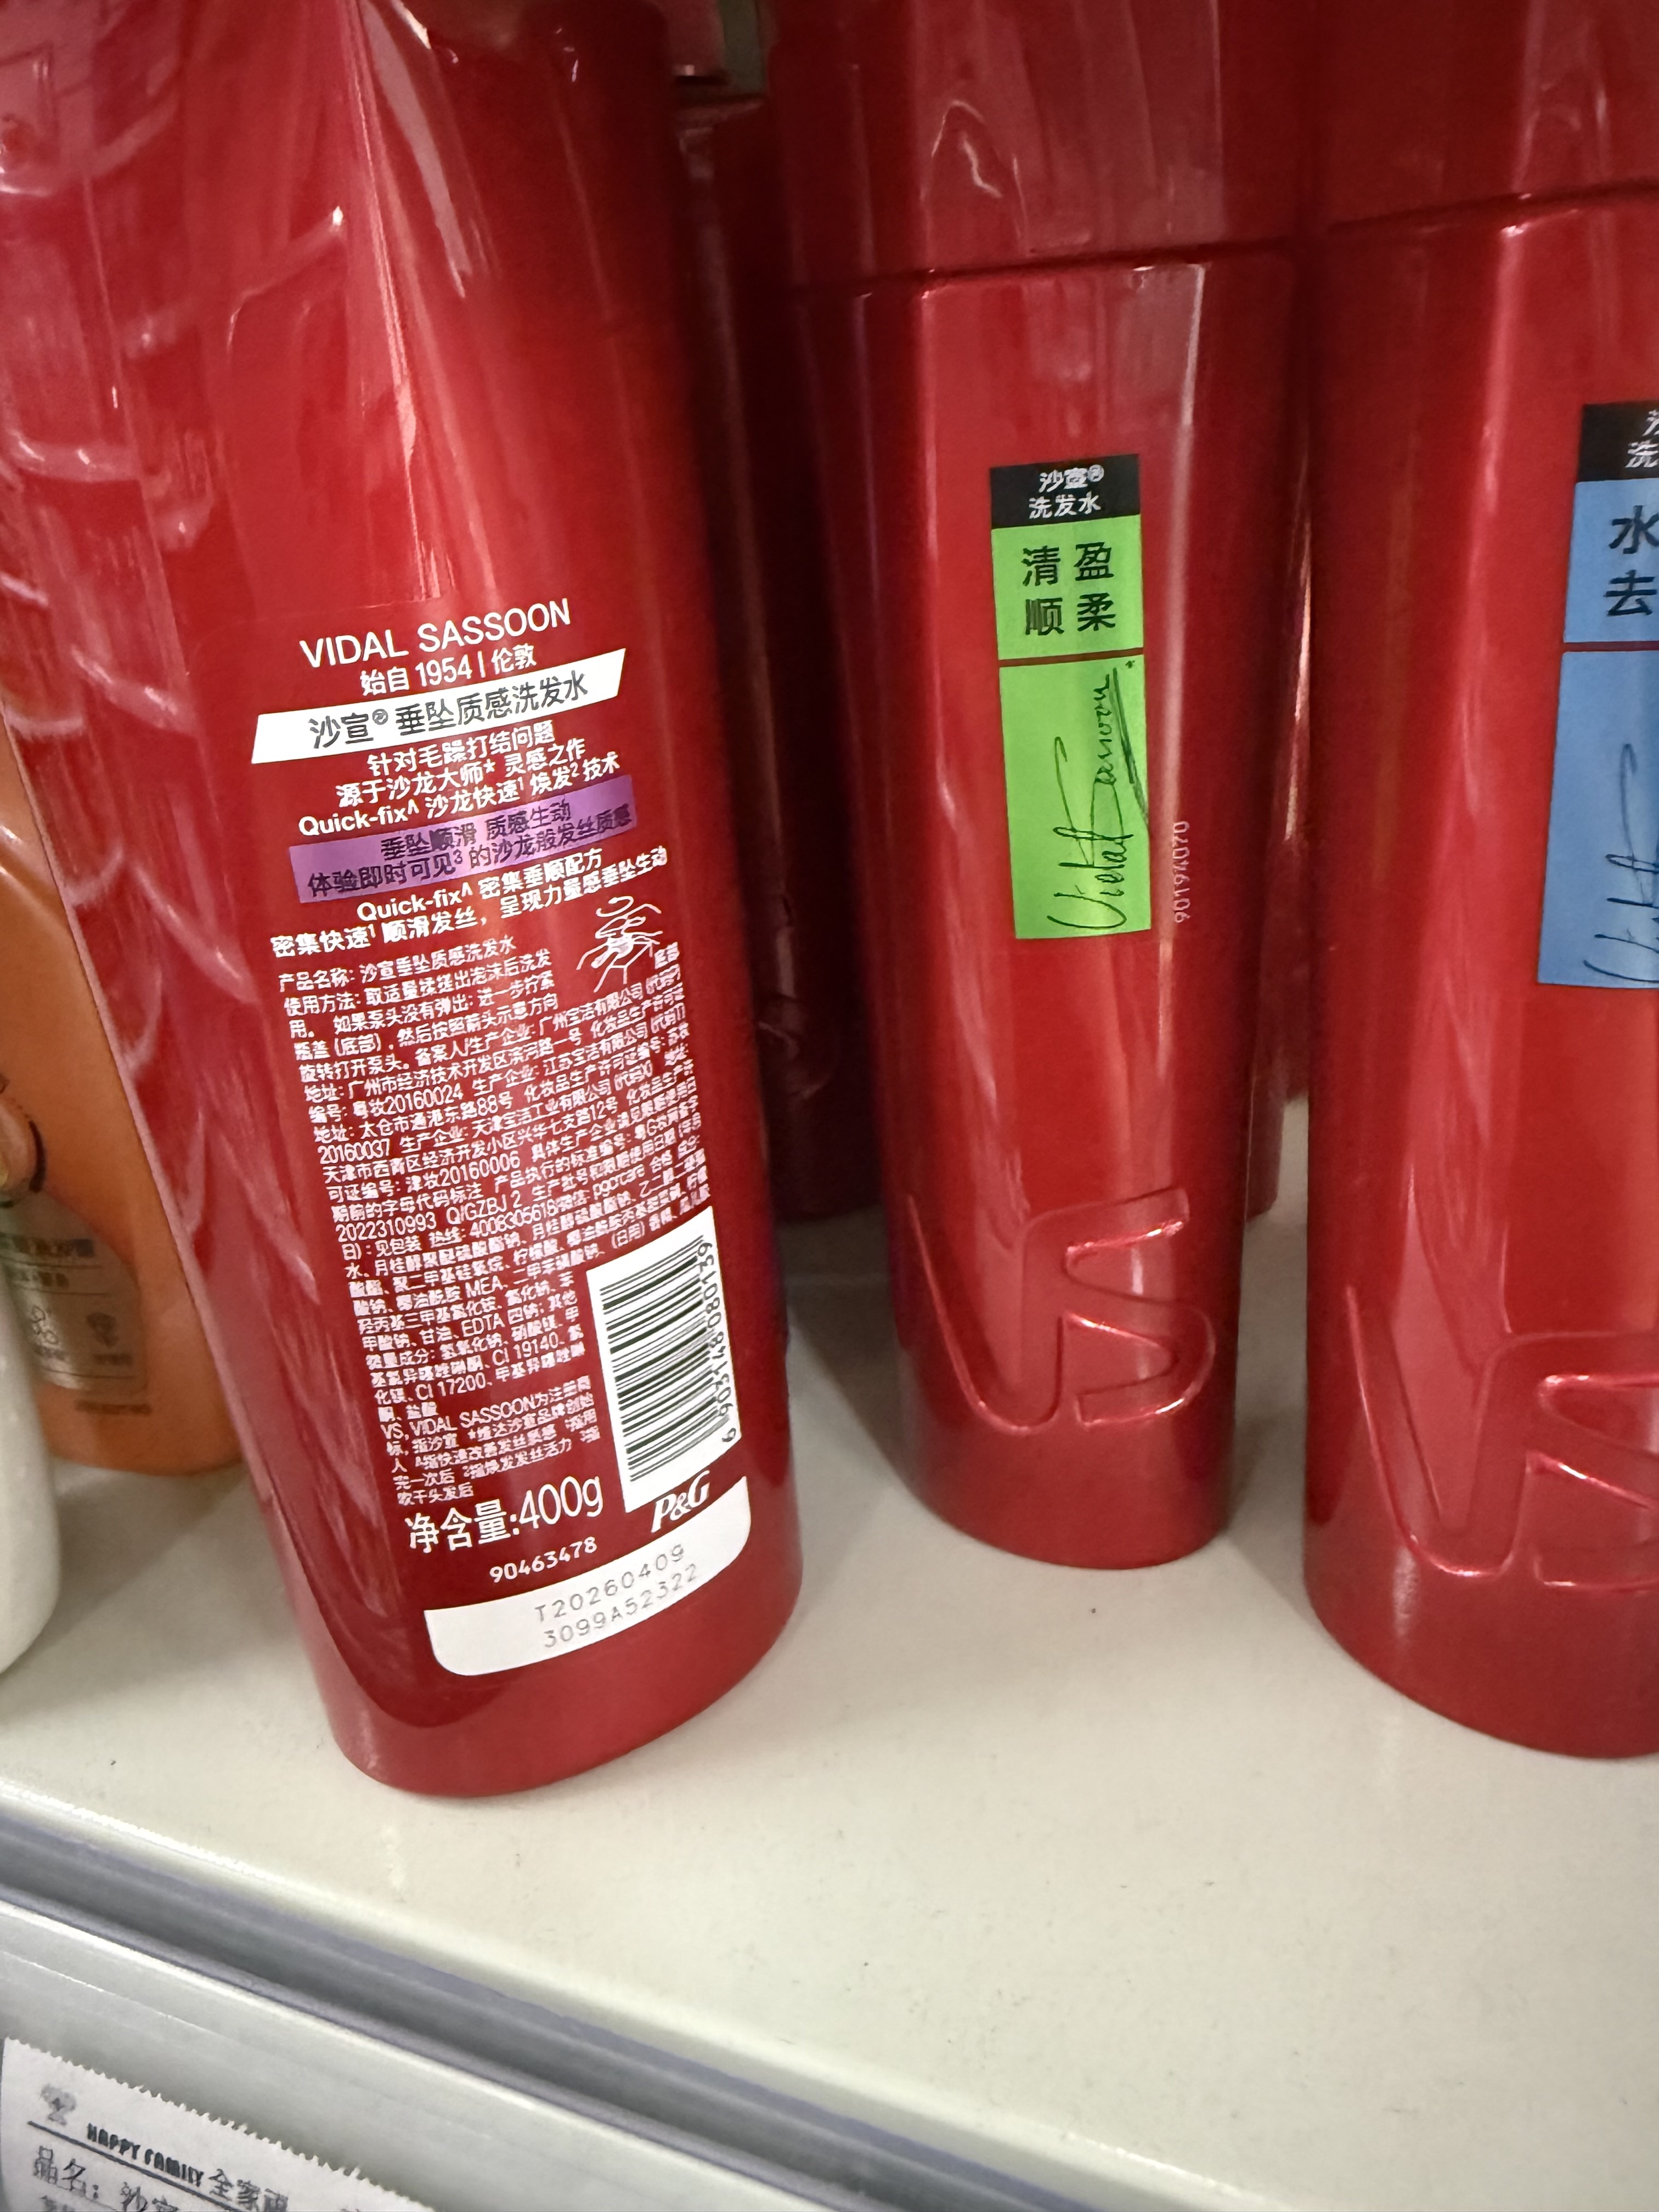bar: (592, 1226, 739, 1489)
